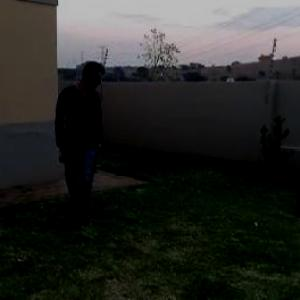follow: (44, 53, 104, 233)
